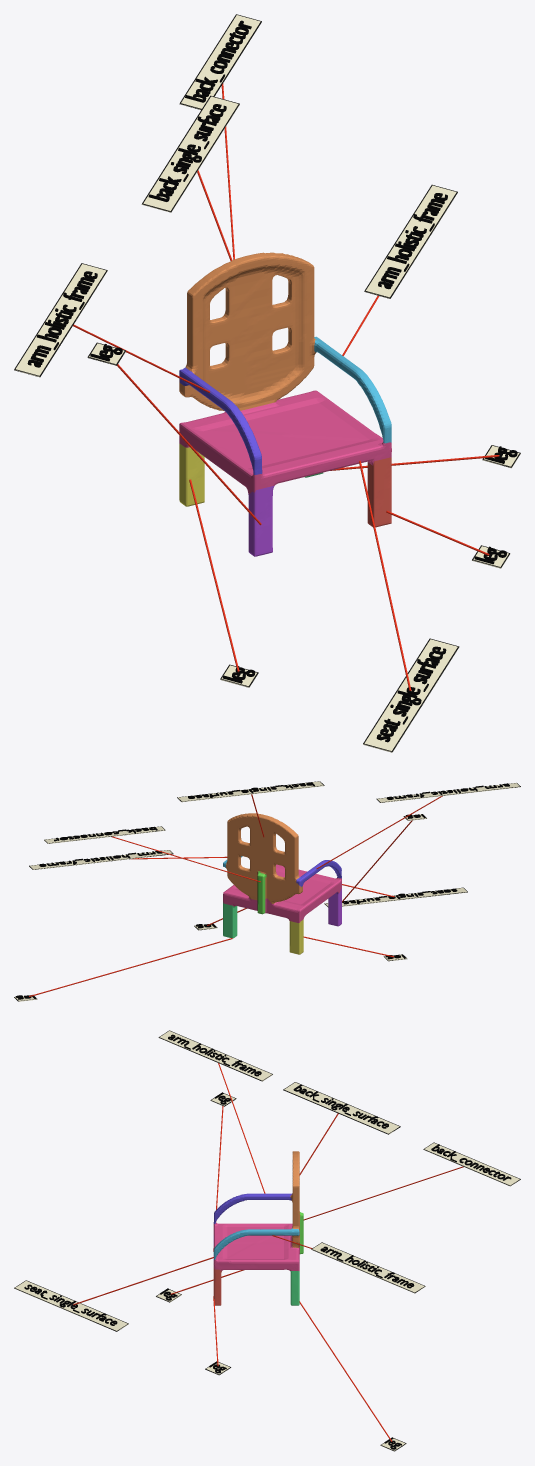
3 renders of one model, top to bottom at view 1: azimuth 30°, elevation 25°; view 2: azimuth 150°, elevation 25°; view 3: azimuth 270°, elevation 25°, orthographic. The views are drawn at different scales.
Visible parts, largest first — view 1: 38844-P, label_back_single_surface_3_17, label_seat_single_surface_11_12, label_arm_holistic_frame_8_13, label_arm_holistic_frame_6_14, label_back_connector_4_16; view 2: 38844-P, label_back_single_surface_3_17, label_arm_holistic_frame_8_13, label_arm_holistic_frame_6_14, label_seat_single_surface_11_12, label_back_connector_4_16, leader_leg_15_8; view 3: 38844-P, label_back_single_surface_3_17, label_seat_single_surface_11_12, label_arm_holistic_frame_8_13, label_arm_holistic_frame_6_14, label_back_connector_4_16.
Part boxes in pixels (bbox=[...]): 38844-P: bbox=[179, 252, 391, 556]; label_back_single_surface_3_17: bbox=[141, 95, 239, 212]; label_seat_single_surface_11_12: bbox=[363, 638, 459, 752]; label_arm_holistic_frame_8_13: bbox=[14, 263, 107, 377]; label_arm_holistic_frame_6_14: bbox=[364, 184, 457, 298]; label_back_connector_4_16: bbox=[179, 14, 261, 109]; 38844-P: bbox=[223, 813, 341, 954]; label_back_single_surface_3_17: bbox=[177, 781, 324, 802]; label_arm_holistic_frame_8_13: bbox=[376, 783, 520, 802]; label_arm_holistic_frame_6_14: bbox=[29, 850, 173, 869]; label_seat_single_surface_11_12: bbox=[324, 887, 467, 907]; label_back_connector_4_16: bbox=[44, 826, 165, 843]; leader_leg_15_8: bbox=[29, 938, 232, 996]; 38844-P: bbox=[213, 1151, 303, 1305]; label_back_single_surface_3_17: bbox=[283, 1082, 400, 1134]; label_seat_single_surface_11_12: bbox=[14, 1280, 128, 1331]; label_arm_holistic_frame_8_13: bbox=[158, 1030, 272, 1081]; label_arm_holistic_frame_6_14: bbox=[311, 1242, 425, 1293]; label_back_connector_4_16: bbox=[423, 1142, 520, 1186].
Bounding box in the file's own units: 4.83 × 2.81 × 5.33.
